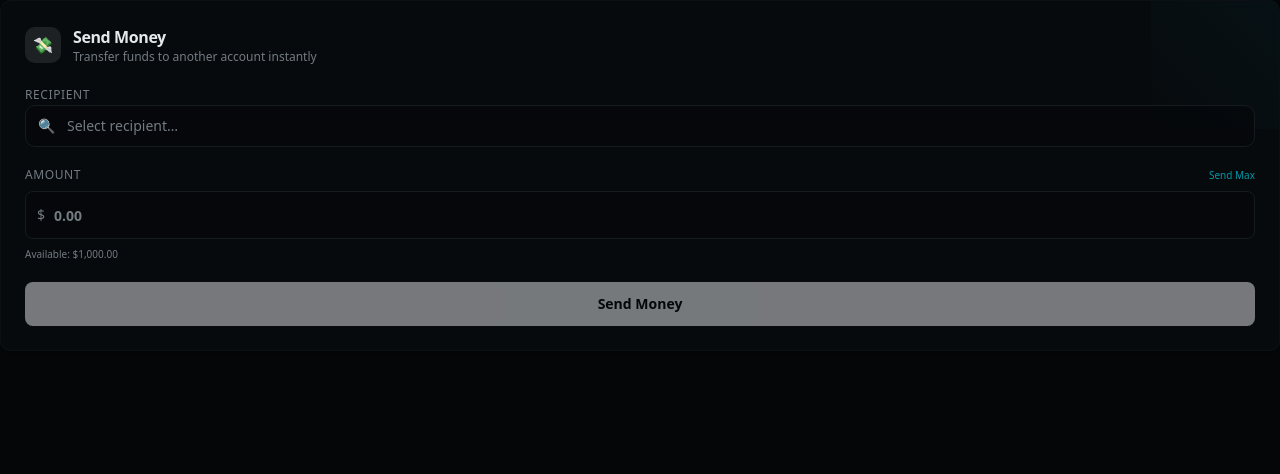
Test: TransferForm › filters out source account from recipient list
# Open account search
Click the text "Select recipient…": (123, 126) [67,116,178,136]
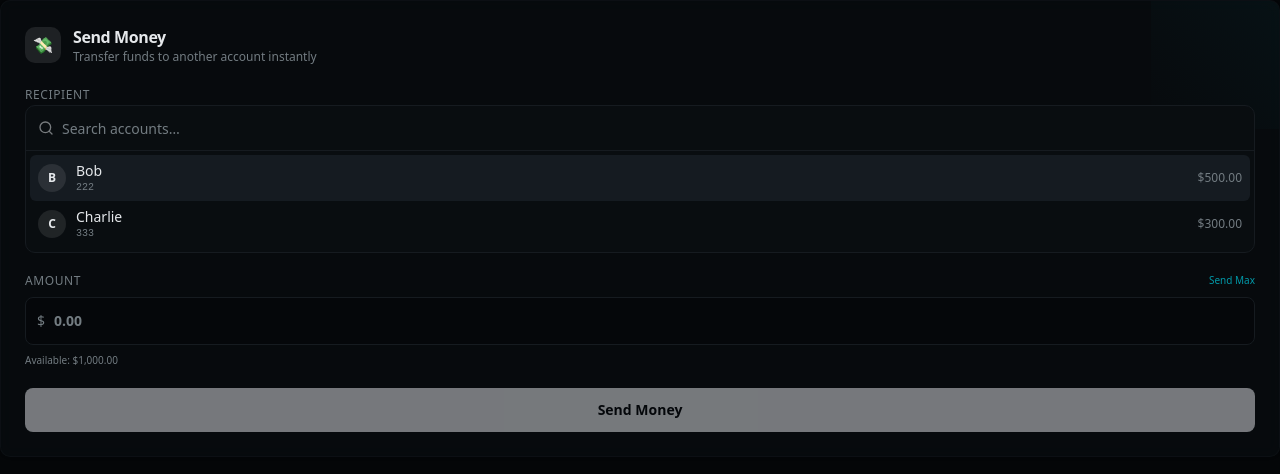
Result: the text "Bob" is shown at [76,161,102,181]
Result: the text "Charlie" is shown at [76,207,122,227]
